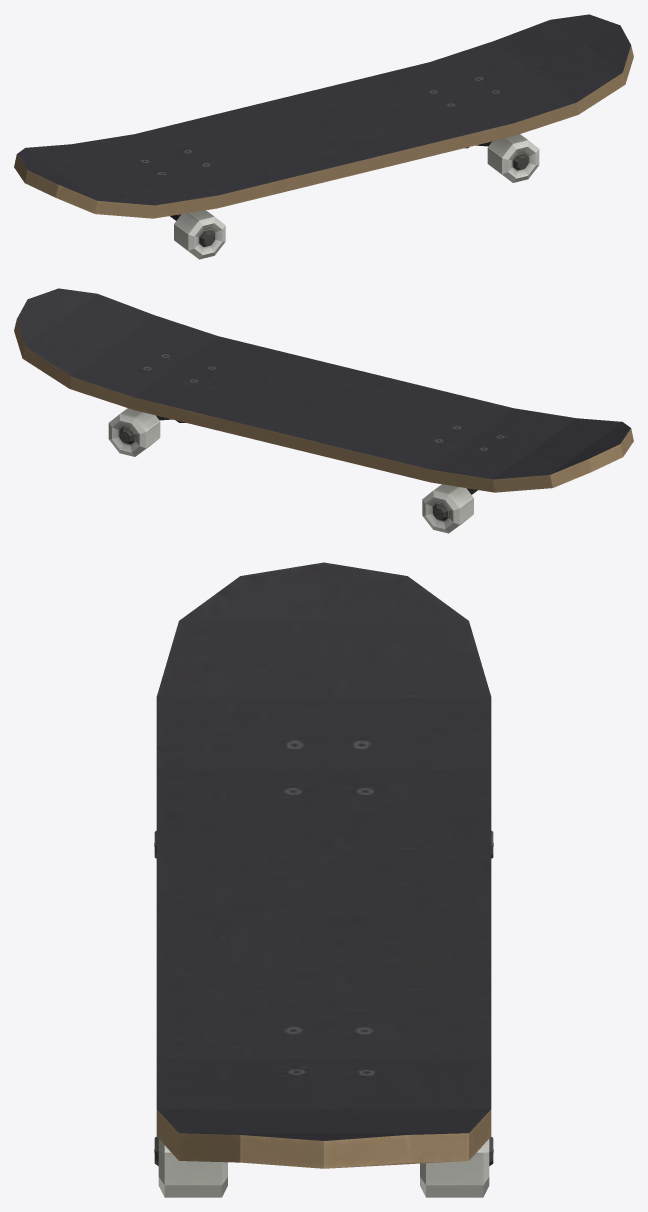
Rendered from 7Dfn4VtTCWY.glb.
3 views of the same model, one above another, from view 1: azimuth 30°, elevation 25°; view 2: azimuth 150°, elevation 25°; view 3: azimuth 270°, elevation 25° (orthographic). The views are drawn at different scales.
Parts seen in each view (by area): view 1: Skateboard_Mesh; view 2: Skateboard_Mesh; view 3: Skateboard_Mesh.
Boxes of the visible parts, <box> form: Skateboard_Mesh: <box>14,14,633,259</box>; Skateboard_Mesh: <box>14,288,633,533</box>; Skateboard_Mesh: <box>154,562,493,1197</box>.
Bounding box in the file's own units: 6.76 × 0.9997 × 1.66.
Materials: 1 (1 with a texture image).
